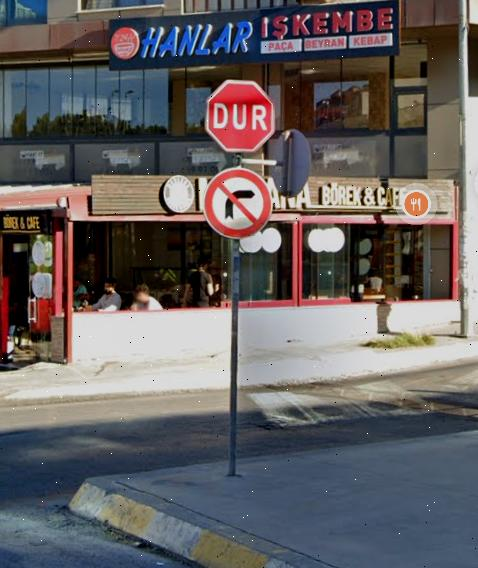rightturnsareforbidden: (207, 168, 268, 236)
stop: (209, 80, 275, 151)
